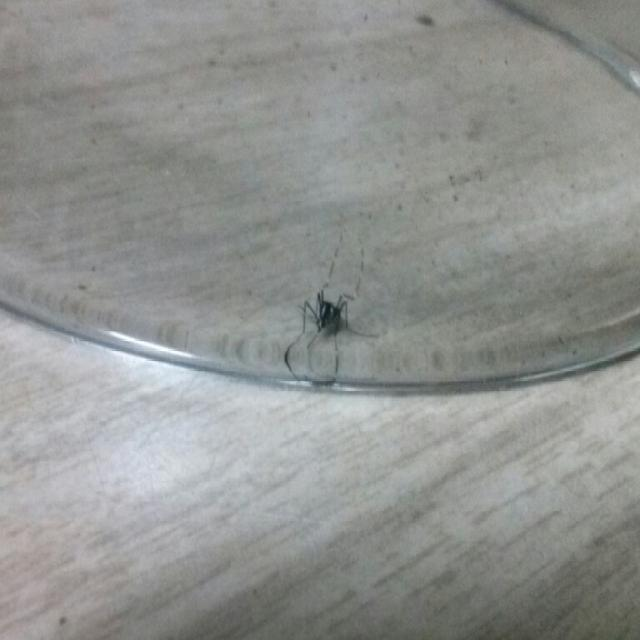albopictus: (281, 226, 385, 384)
